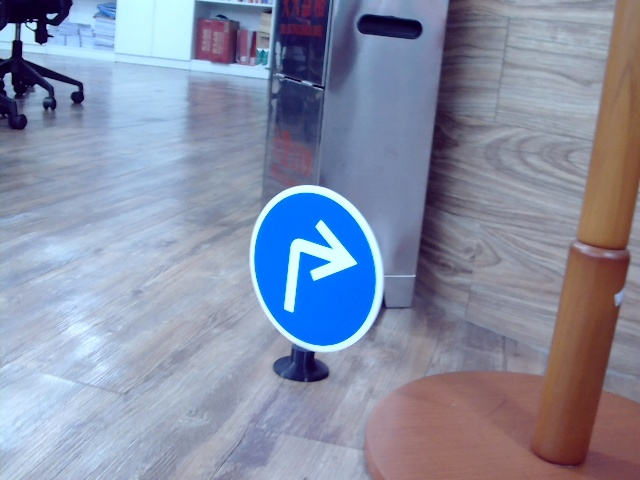turn_right: (277, 215, 354, 322)
